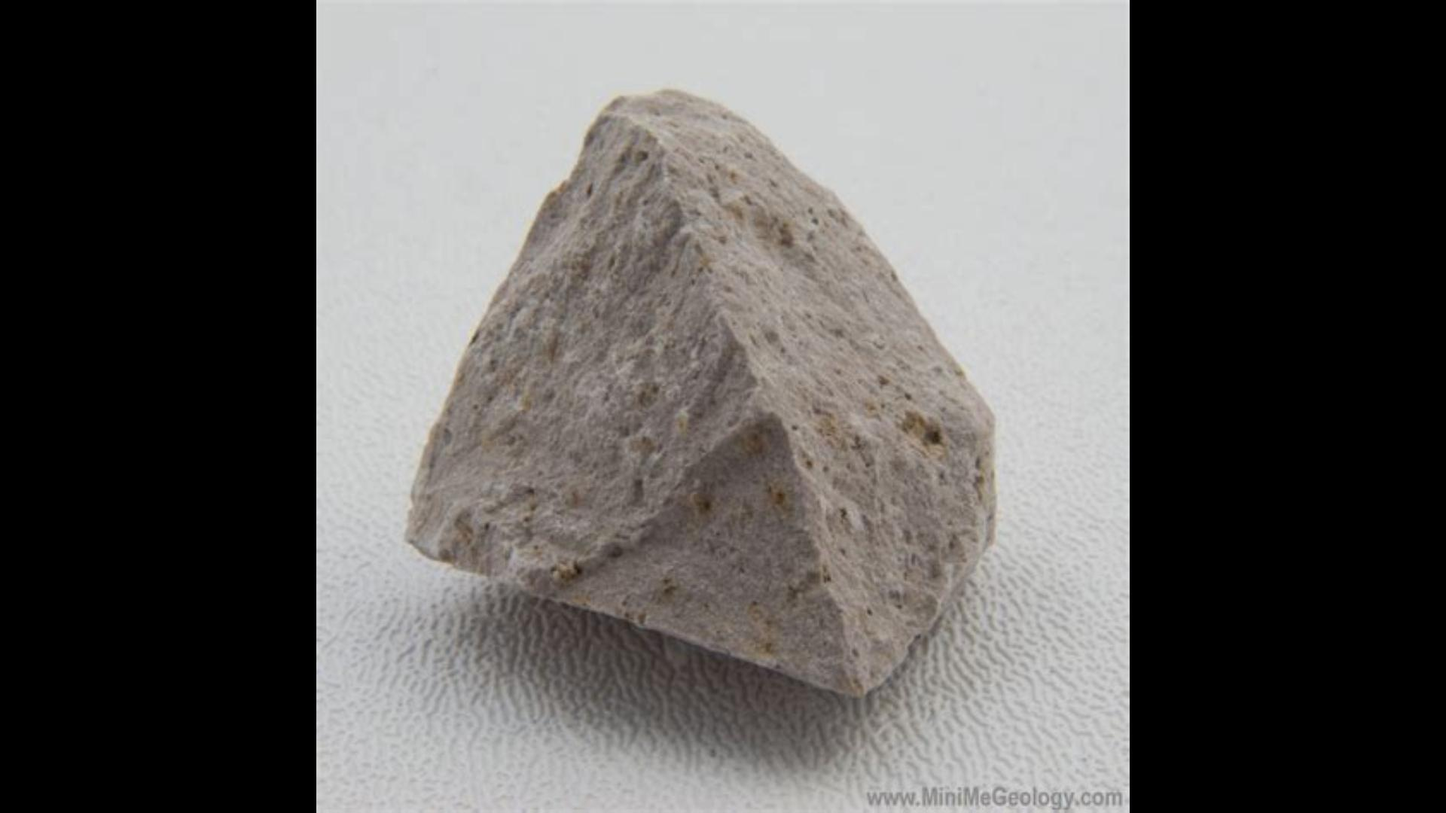rock: (409, 91, 992, 690)
